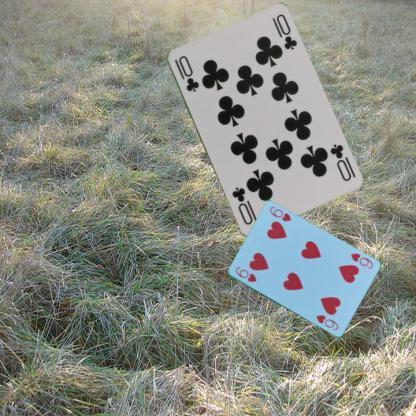10c: (172, 52, 200, 93), (326, 141, 352, 183)
6h: (348, 250, 374, 270), (233, 264, 258, 284)
